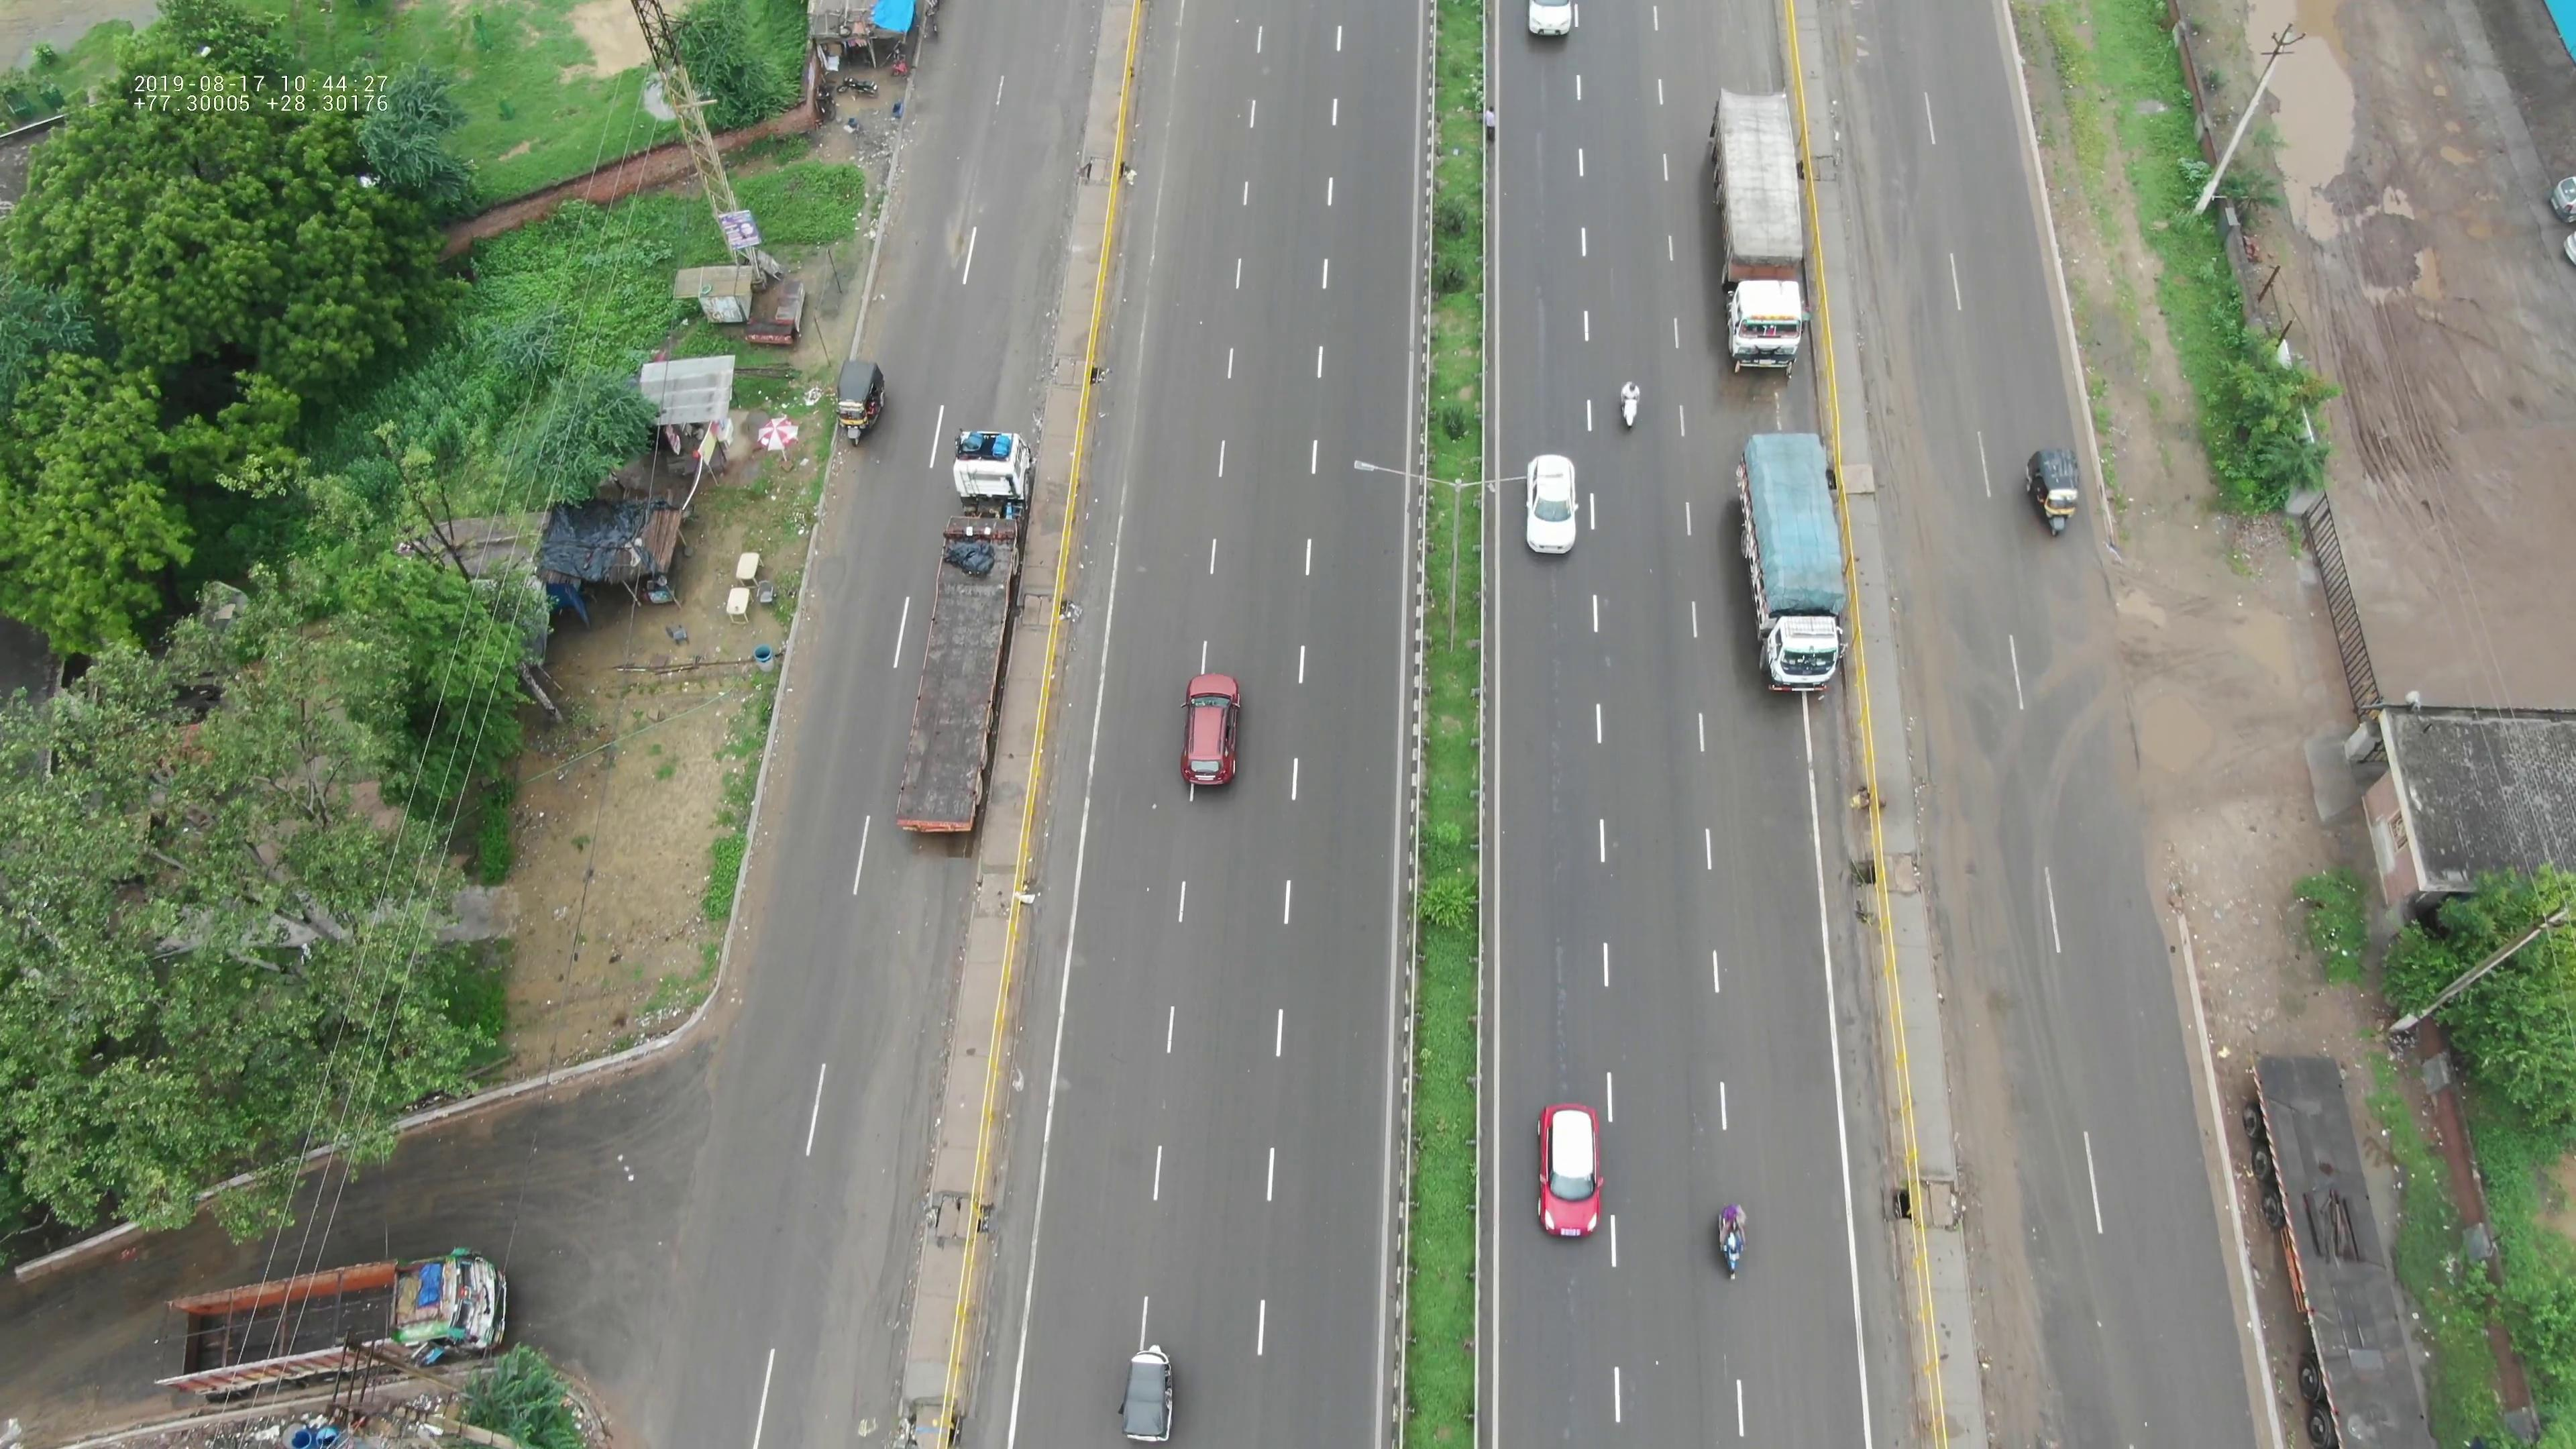Muddy_road: (1923, 755, 1987, 938)
Waterlogging: (2252, 9, 2463, 331)
